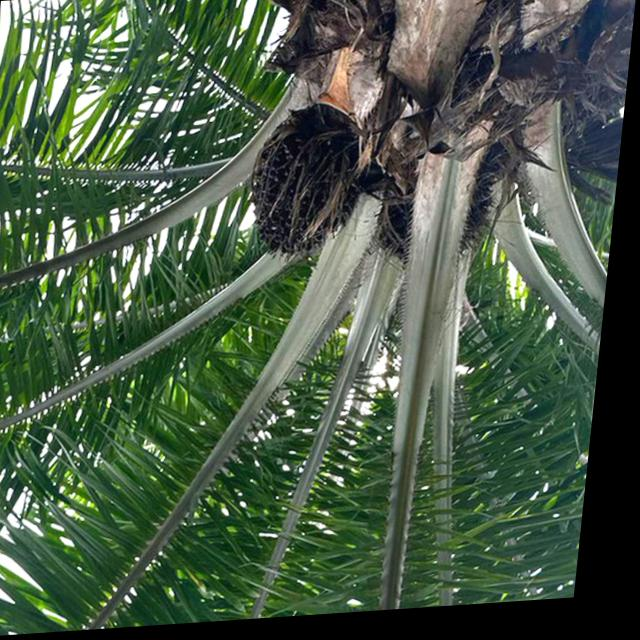almost: (245, 107, 387, 267), (383, 139, 519, 274)
